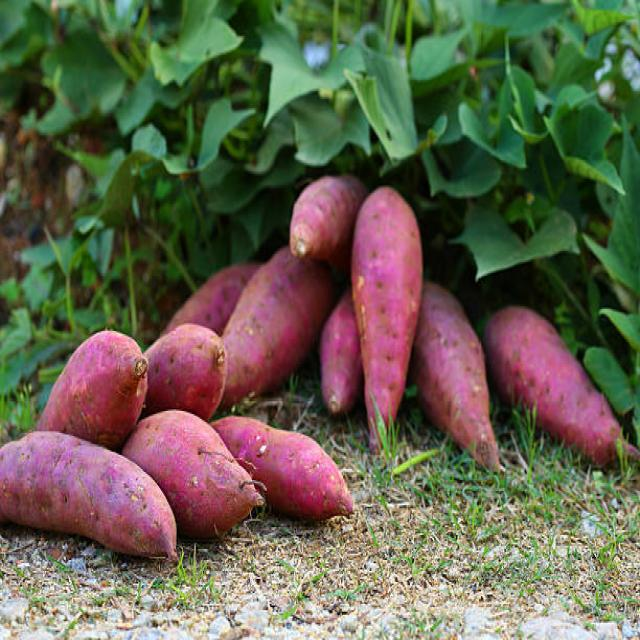sweet potato: (0, 429, 173, 574), (494, 302, 624, 474), (352, 182, 422, 452), (421, 277, 491, 471), (228, 250, 310, 407), (49, 327, 146, 445), (176, 412, 260, 532), (258, 424, 353, 523), (150, 324, 227, 414), (320, 298, 357, 416)
